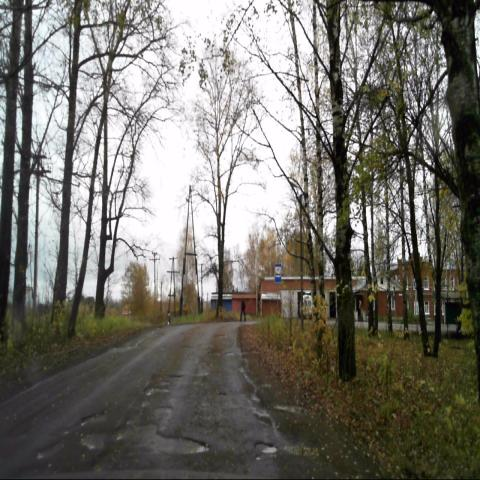7_2: (274, 263, 282, 283)
